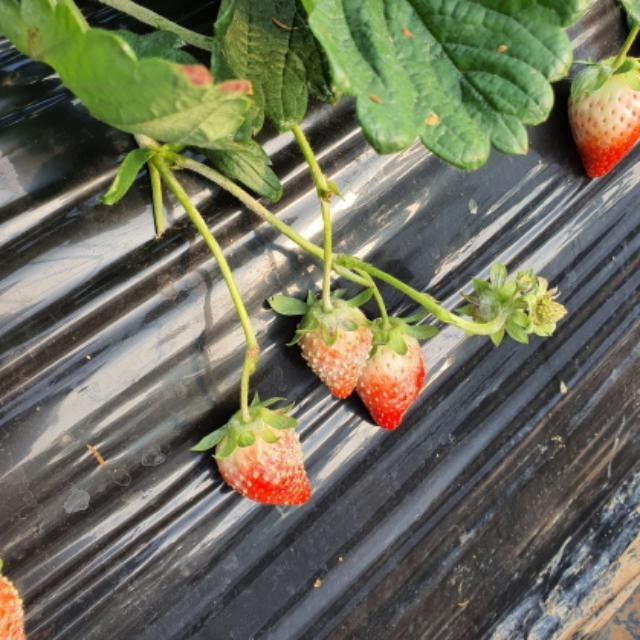Powdery Mildew Fruit: (215, 405, 313, 506), (355, 317, 425, 431), (296, 298, 370, 400)
